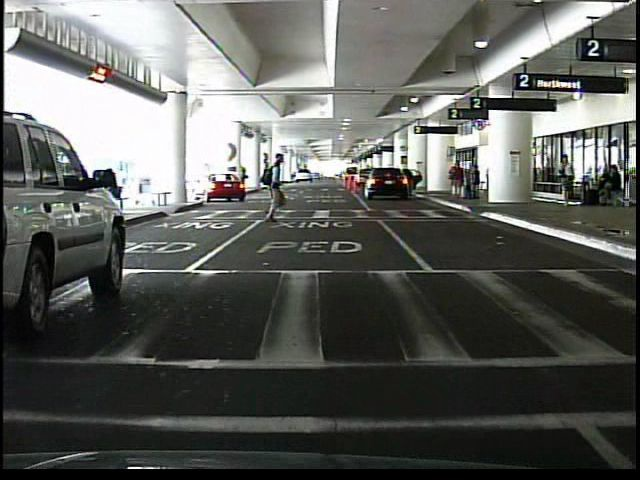person: (251, 148, 290, 223), (447, 159, 466, 200), (560, 157, 575, 205), (468, 165, 481, 200)
